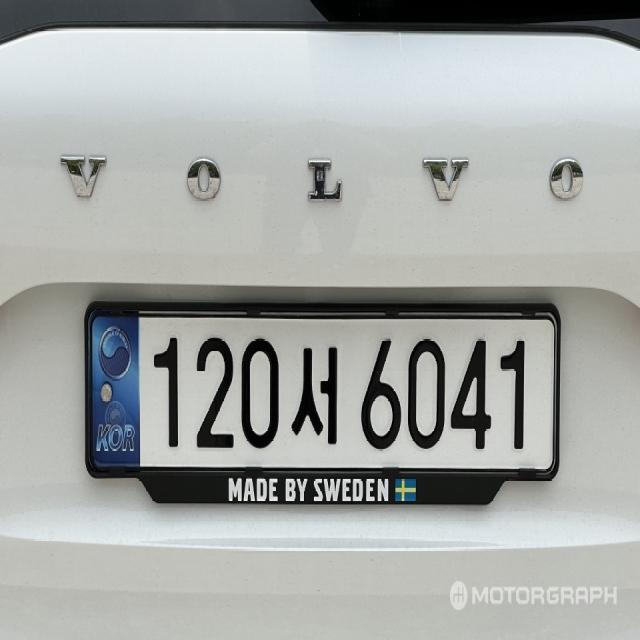car: (77, 285, 570, 526)
